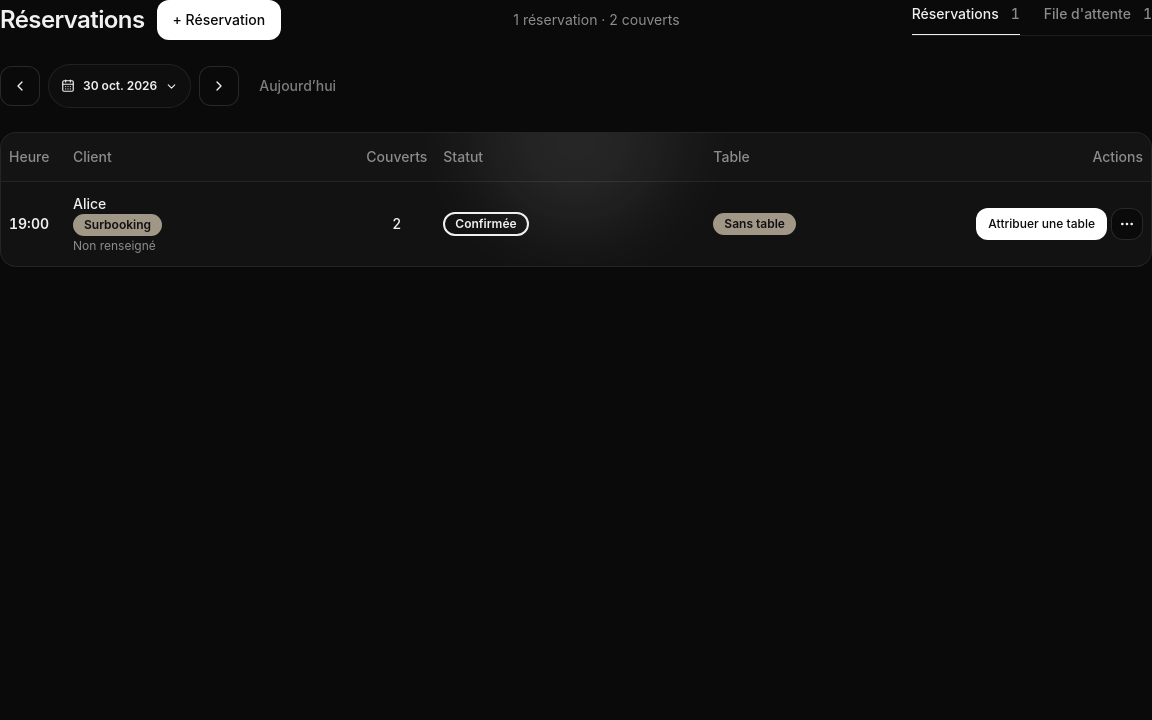
ReservationsPage › montre le badge surbooking en liste et dans le panneau
Expected: the text "Surbooking" is shown, x1=73 y1=214 x2=162 y2=236
Click the text "Alice".
click(90, 203)  # box x1=73 y1=194 x2=106 y2=212
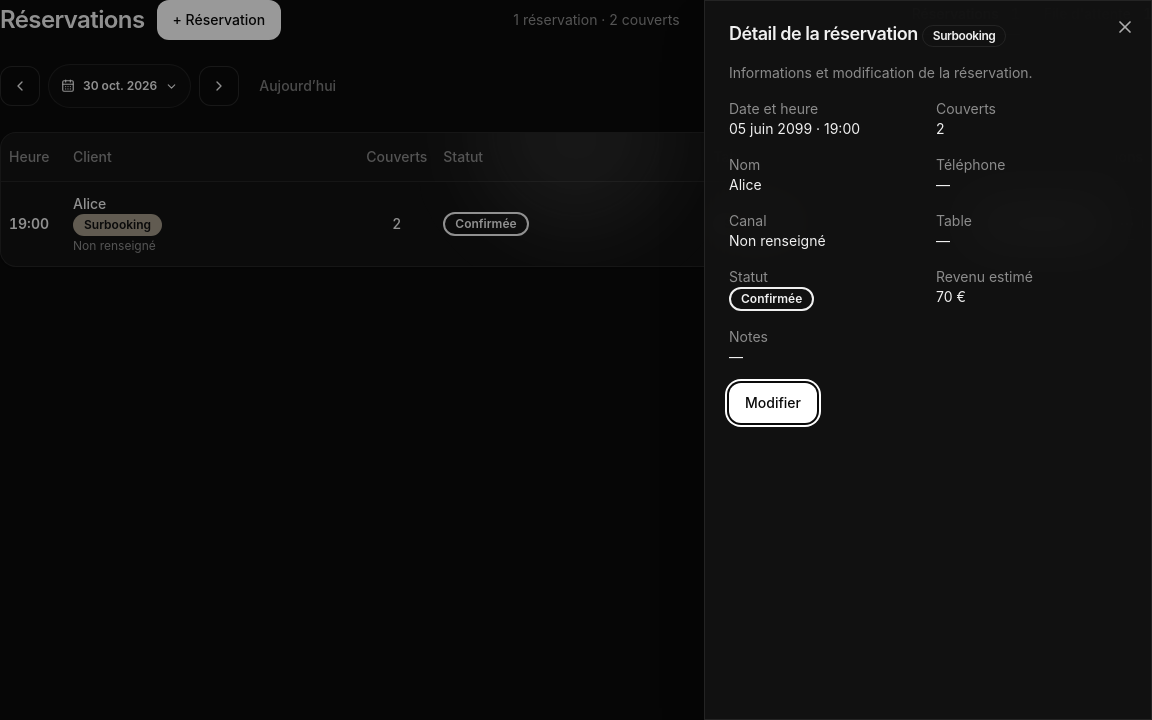
Expected: the text "Surbooking" is shown 2 times, x1=73 y1=214 x2=162 y2=236; x1=922 y1=25 x2=1006 y2=47
